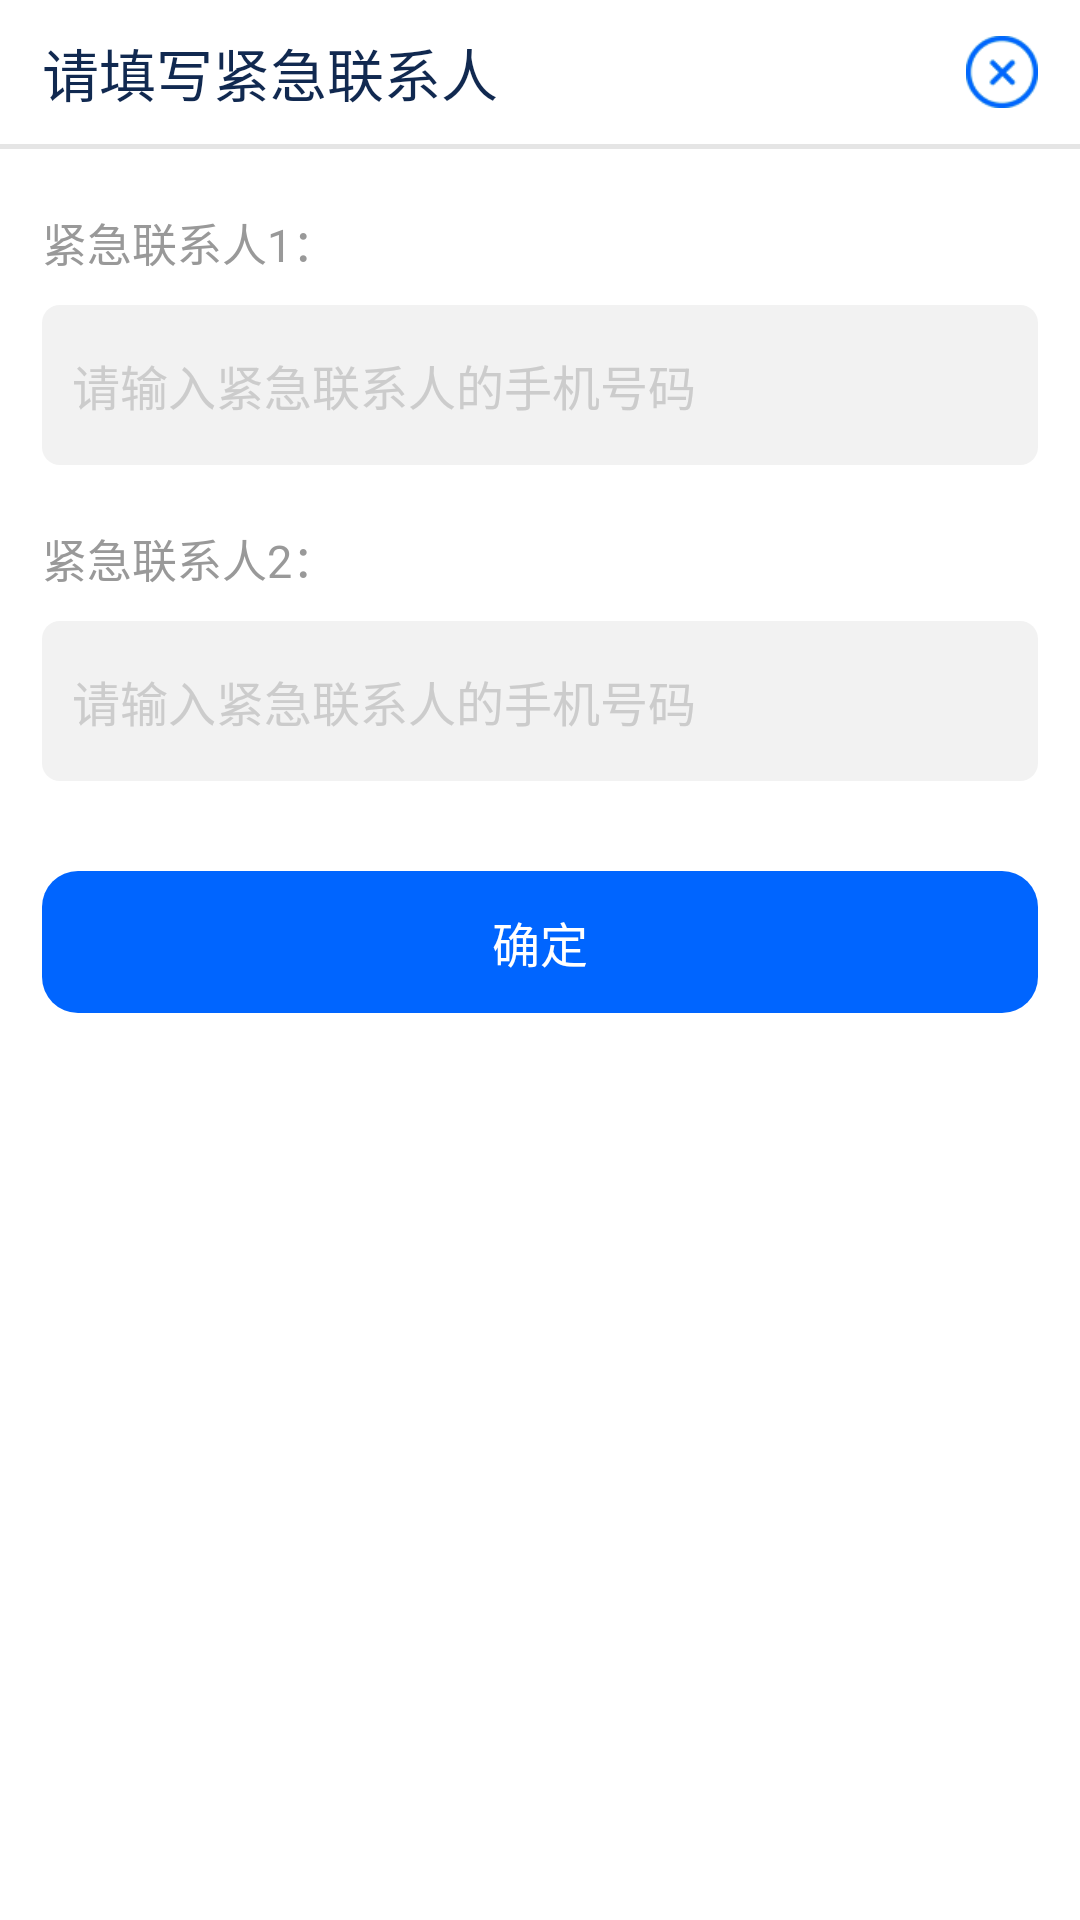

Screen size 1080w x 1920h. Icon name, then its center in pixels as (x=x, y=y):
emergency contact list close: (x=1002, y=72)
